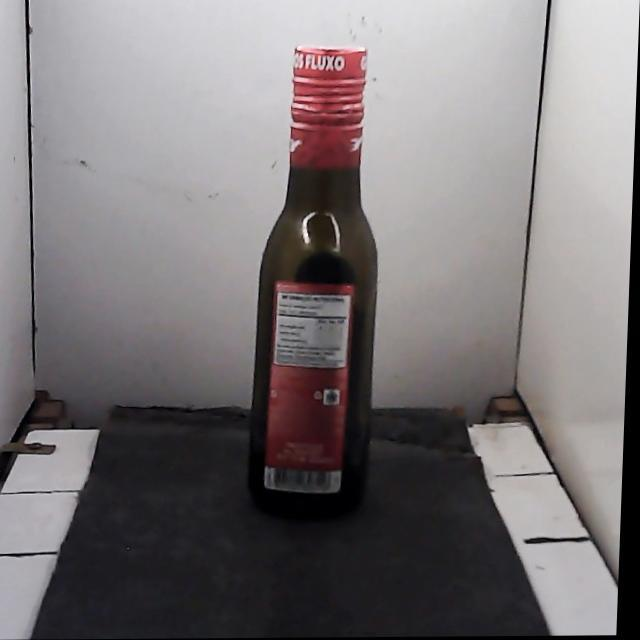vidro: (249, 46, 377, 514)
